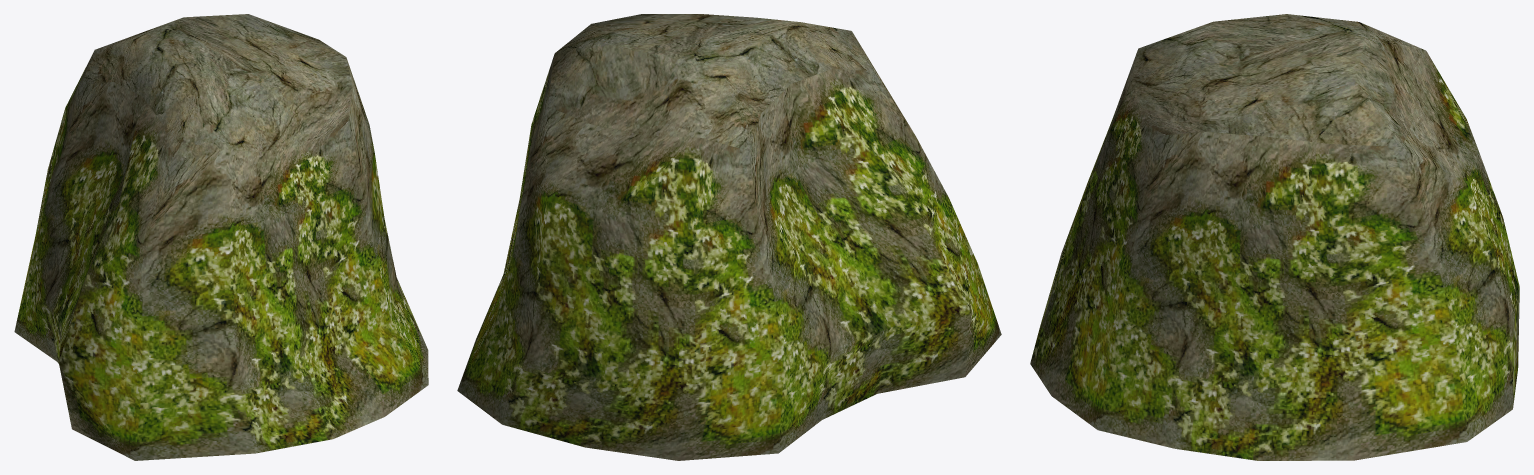
Rendered from rock_liaaba_covered_a2_l0.fbx.
3 renders of one model, left to right at view 1: azimuth 30°, elevation 25°; view 2: azimuth 150°, elevation 25°; view 3: azimuth 270°, elevation 25°, orthographic. The views are drawn at different scales.
Visible parts, largest first — view 1: mesh_node; view 2: mesh_node; view 3: mesh_node.
Boxes of the visible parts, x1,y1,x2,y2 form: mesh_node: (14,14,428,460); mesh_node: (457,14,1001,460); mesh_node: (1030,14,1519,460).
Bounding box in the file's own units: 4.89 × 3.75 × 5.09.
